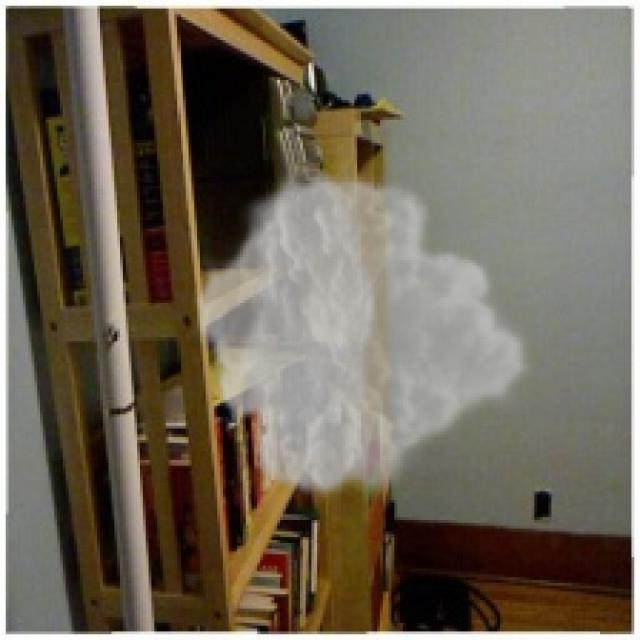smoke: (192, 163, 534, 506)
